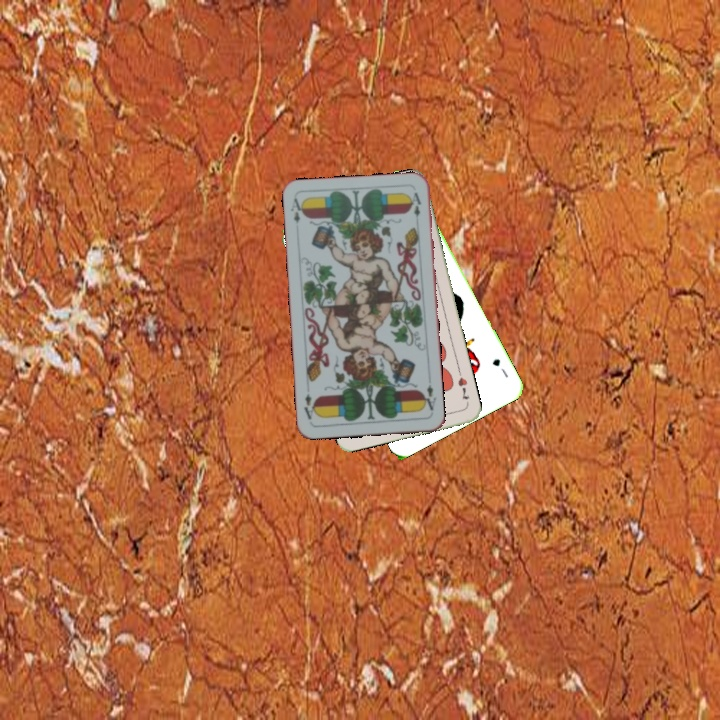EA: (418, 381, 439, 415), (286, 194, 306, 225)
GU: (488, 354, 511, 380)
H7: (454, 373, 472, 402)
